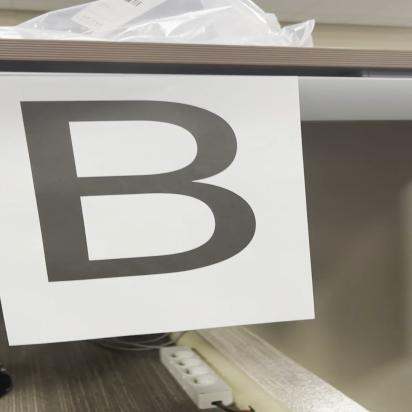seat: (4, 93, 294, 287)
